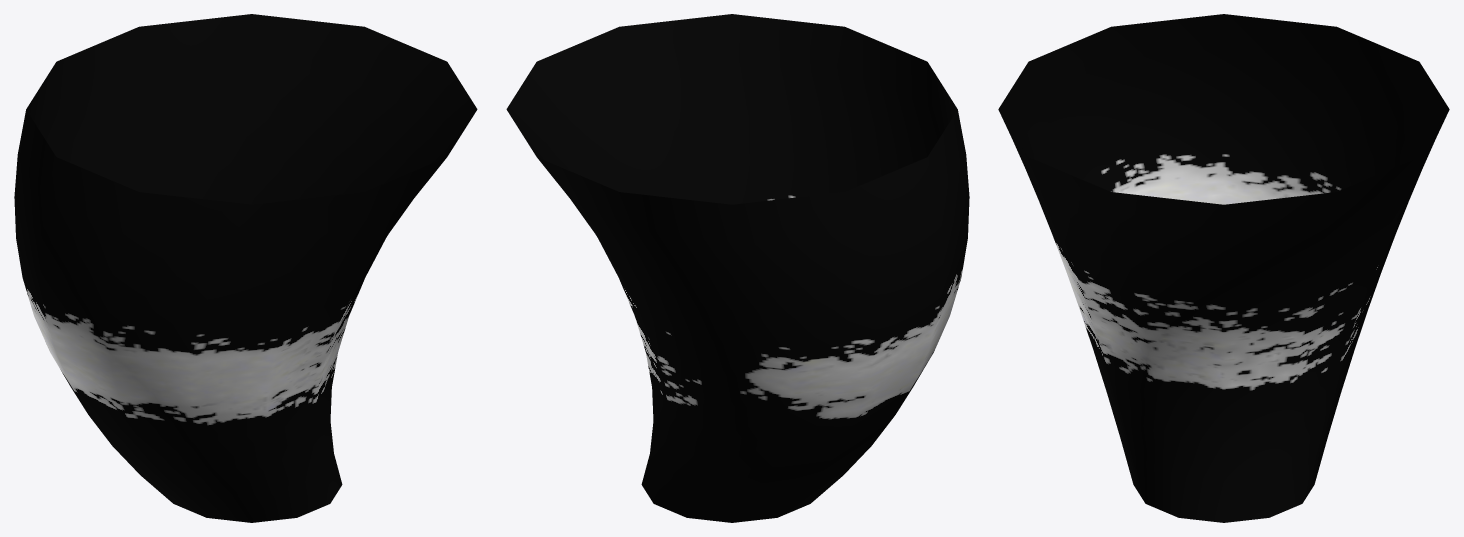
3 views of the same model, side by side, from view 1: azimuth 30°, elevation 25°; view 2: azimuth 150°, elevation 25°; view 3: azimuth 270°, elevation 25° (orthographic).
Visible parts, largest first — view 1: XF_14; view 2: XF_14; view 3: XF_14.
Boxes of the visible parts, left/top/right/bottom form: XF_14: left=14, top=14, right=477, bottom=522; XF_14: left=506, top=14, right=969, bottom=522; XF_14: left=998, top=14, right=1449, bottom=522.
Bounding box in the file's own units: 0.7003 × 0.6179 × 0.6735.
1 material, 1 textured.
